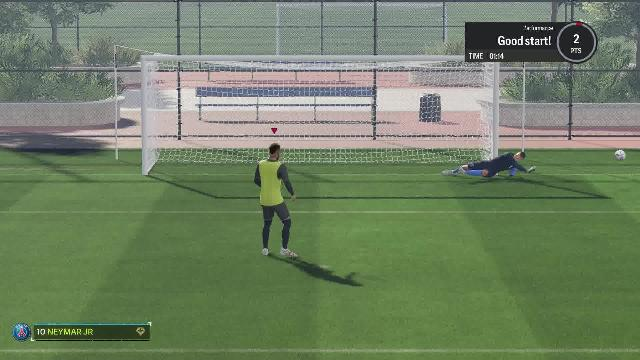football: (610, 148, 628, 162)
goal-bottom-left: (148, 118, 262, 174)
goal-bottom-right: (374, 117, 488, 173)
goal-middle-down: (260, 120, 372, 178)
goal-middle-up: (260, 59, 376, 123)
goal-top-left: (146, 61, 260, 117)
goal-top-right: (376, 61, 490, 117)
goalkeeper: (446, 131, 534, 183)
player: (248, 146, 304, 260)
